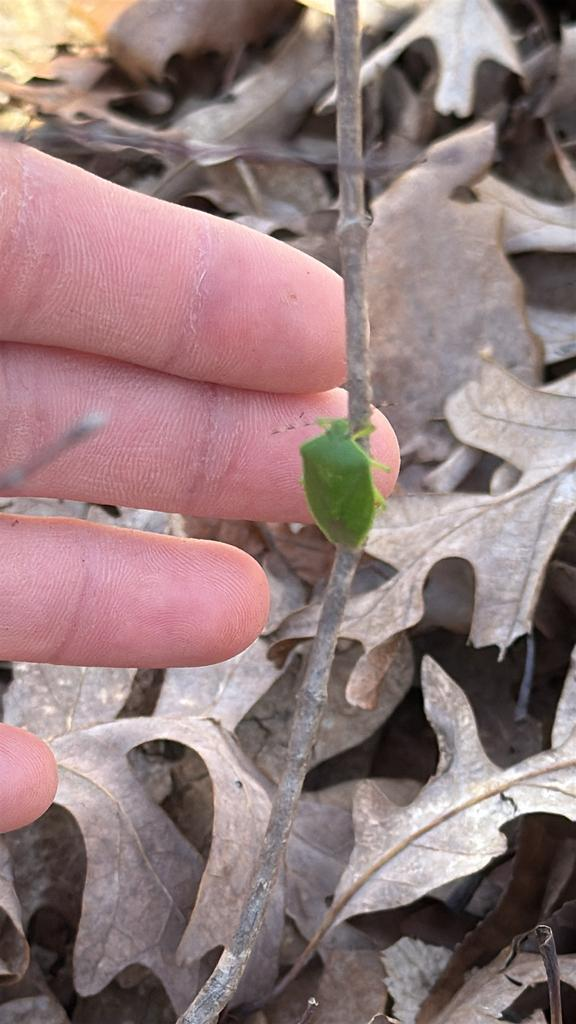stink_bugs: (239, 391, 423, 571)
